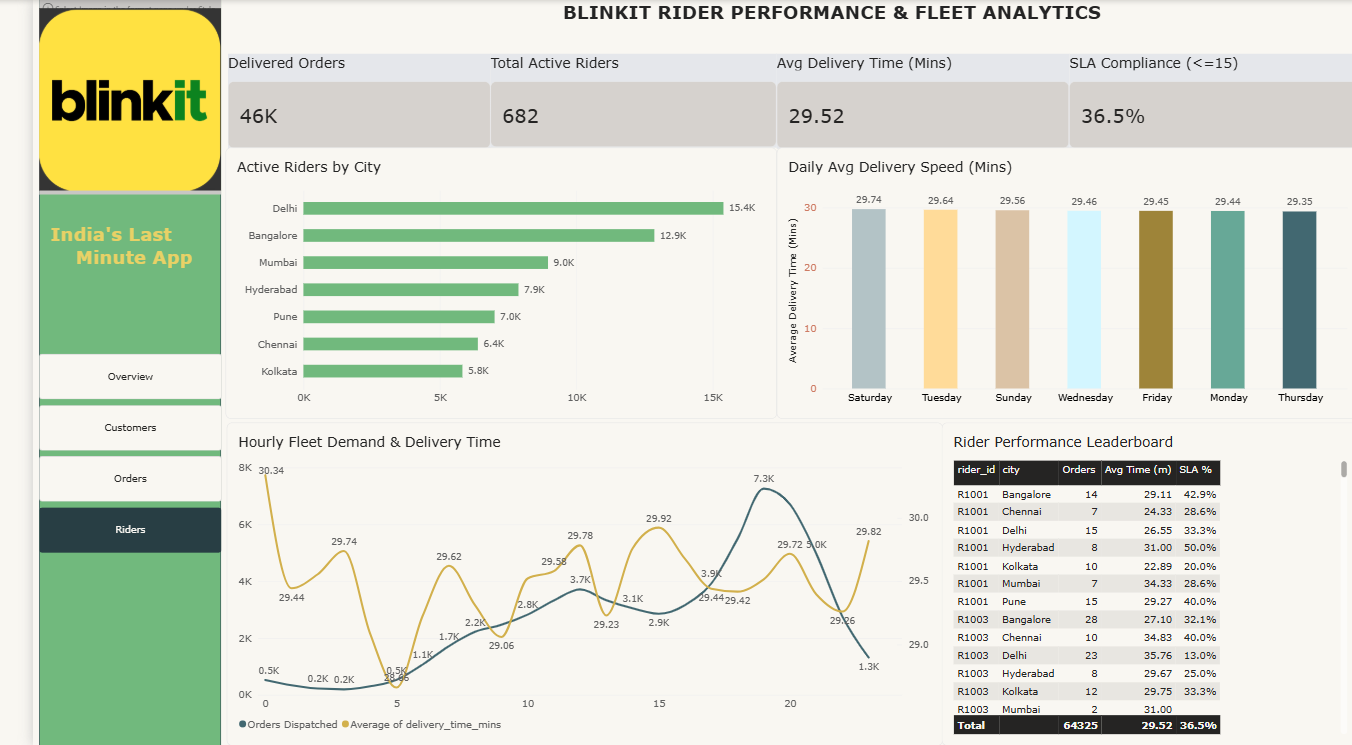

This screenshot's page, from the dashboard's own definition file:
{"tool":"powerbi","page":{"name":"Riders","canvas":[1920,1080],"ordinal":3},"visuals":[{"type":"cardVisual","title":"Total Active Riders","fields":{"Data":["Blinkit_PowerBI_Data.Active Riders"]},"box":[662.3,77.8,414.4,135.7],"z":0},{"type":"cardVisual","title":"Avg Delivery Time (Mins)","fields":{"Data":["Blinkit_PowerBI_Data.Avg Delivery Time (Mins)"]},"box":[1076.7,77.8,423.5,137.5],"z":1000},{"type":"cardVisual","title":"SLA Compliance (<=15)","fields":{"Data":["Blinkit_PowerBI_Data.SLA Compliance %"]},"box":[1500.2,77.8,419.8,137.5],"z":2000},{"type":"cardVisual","title":"Delivered Orders","fields":{"Data":["Blinkit_PowerBI_Data.Delivered Orders"]},"box":[282.3,77.8,380,137.5],"z":3000},{"type":"lineChart","title":"Hourly Fleet Demand & Delivery Time","fields":{"Category":["Blinkit_PowerBI_Data.order_hour"],"Y":["CountNonNull(Blinkit_PowerBI_Data.order_id)"],"Y2":["Avg(Blinkit_PowerBI_Data.delivery_time_mins)"]},"box":[279.9,612.5,1036.5,468.4],"z":4000},{"type":"clusteredBarChart","title":"Active Riders by City","fields":{"Category":["Blinkit_PowerBI_Data.city"],"Y":["CountNonNull(Blinkit_PowerBI_Data.rider_id)"]},"box":[278.7,213.5,798.1,392.7],"z":5000},{"type":"clusteredColumnChart","title":"Daily Avg Delivery Speed (Mins)","fields":{"Category":["Blinkit_PowerBI_Data.day_of_week"],"Y":["Avg(Blinkit_PowerBI_Data.delivery_time_mins)"]},"box":[1076.7,213.5,843.3,392.7],"z":6000},{"type":"tableEx","title":"Rider Performance Leaderboard","fields":{"Values":["Blinkit_PowerBI_Data.rider_id","Blinkit_PowerBI_Data.city","Blinkit_PowerBI_Data.order_id","Blinkit_PowerBI_Data.Avg Delivery Time (Mins)","Blinkit_PowerBI_Data.SLA Compliance %"]},"box":[1316.4,612.5,604.2,468.4],"z":7000},{"type":"textbox","box":[767.3,0,803.5,77.8],"z":8000},{"type":"shape","box":[9,0,263.2,1080.4],"z":9000},{"type":"image","box":[9.2,0,263.2,281.5],"z":10000},{"type":"image","box":[9.2,4.6,263.2,277],"z":11000},{"type":"pageNavigator","box":[9,512.1,264.2,289.5],"z":12000},{"type":"textbox","box":[25.2,322.7,247.2,171.7],"z":13000}]}

Visuals, with their boxes on the page's 1920x1080 design canvas (x1, y1, x2, y2). These are canvas units, not pixel positions in the 1352x745 screenshot, which may show the page scaled, cropped or inside an application window:
"Total Active Riders" cardVisual: box=[662, 78, 1077, 214]
"Avg Delivery Time (Mins)" cardVisual: box=[1077, 78, 1500, 215]
"SLA Compliance (<=15)" cardVisual: box=[1500, 78, 1920, 215]
"Delivered Orders" cardVisual: box=[282, 78, 662, 215]
"Hourly Fleet Demand & Delivery Time" lineChart: box=[280, 612, 1316, 1081]
"Active Riders by City" clusteredBarChart: box=[279, 214, 1077, 606]
"Daily Avg Delivery Speed (Mins)" clusteredColumnChart: box=[1077, 214, 1920, 606]
"Rider Performance Leaderboard" tableEx: box=[1316, 612, 1921, 1081]
textbox: box=[767, 0, 1571, 78]
shape: box=[9, 0, 272, 1080]
image: box=[9, 0, 272, 282]
image: box=[9, 5, 272, 282]
pageNavigator: box=[9, 512, 273, 802]
textbox: box=[25, 323, 272, 494]
